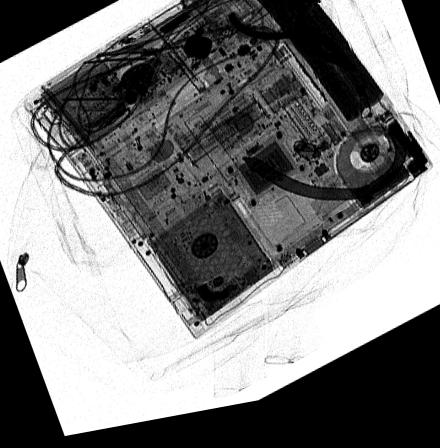Pliers: (226, 0, 360, 88)
